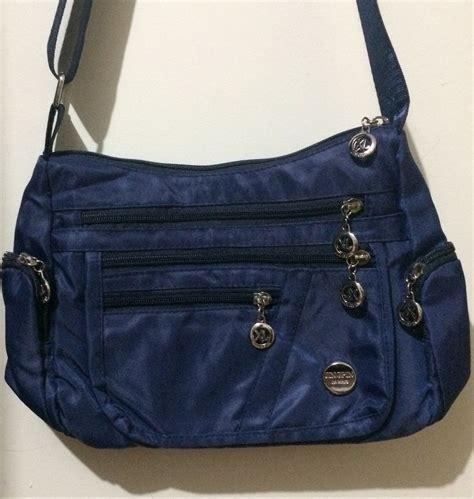nylon: (2, 122, 471, 448)
